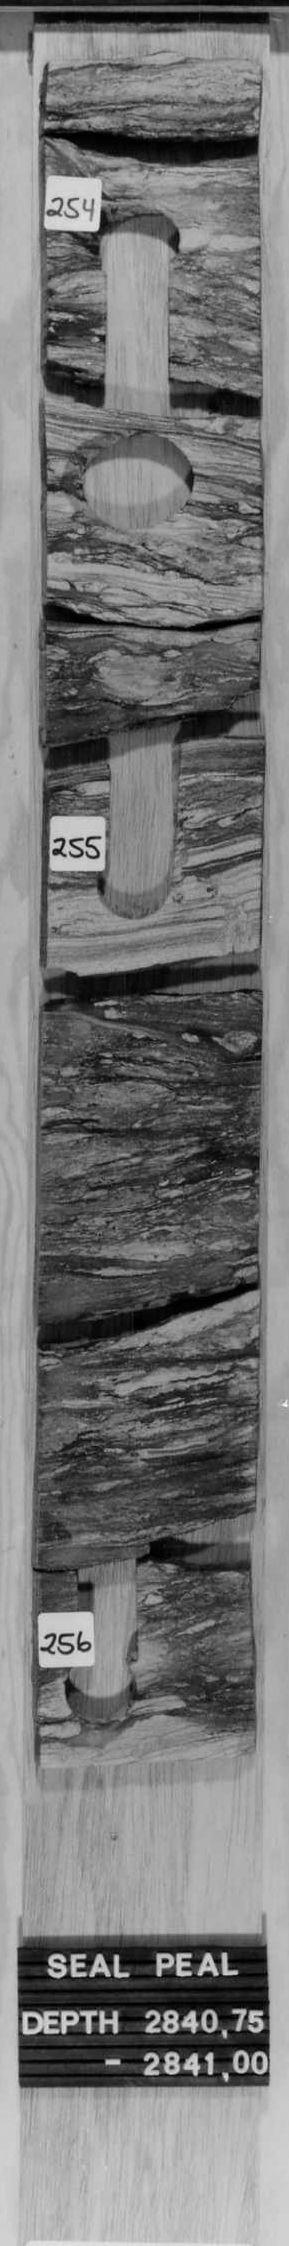hplug: (83, 201, 197, 276), (147, 1504, 250, 1581), (89, 864, 187, 928), (57, 1669, 146, 1735)
scal: (69, 428, 205, 534)
vplug: (93, 276, 186, 421), (97, 718, 183, 867), (69, 1554, 150, 1667)
